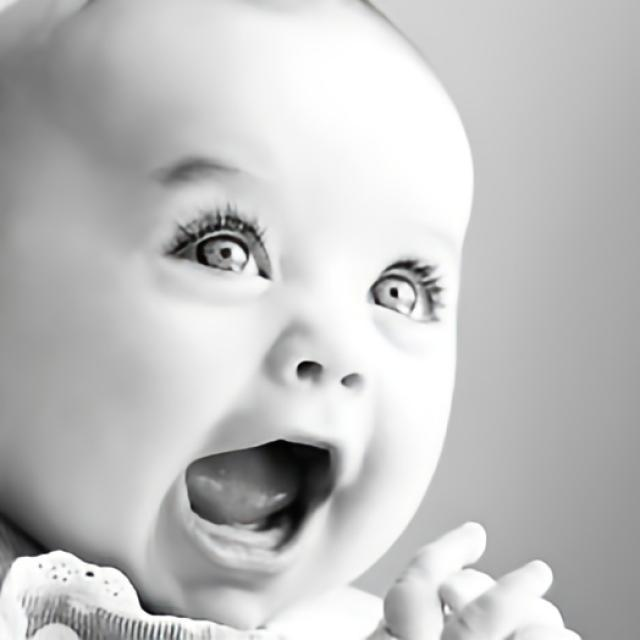surprise: (1, 0, 478, 635)
